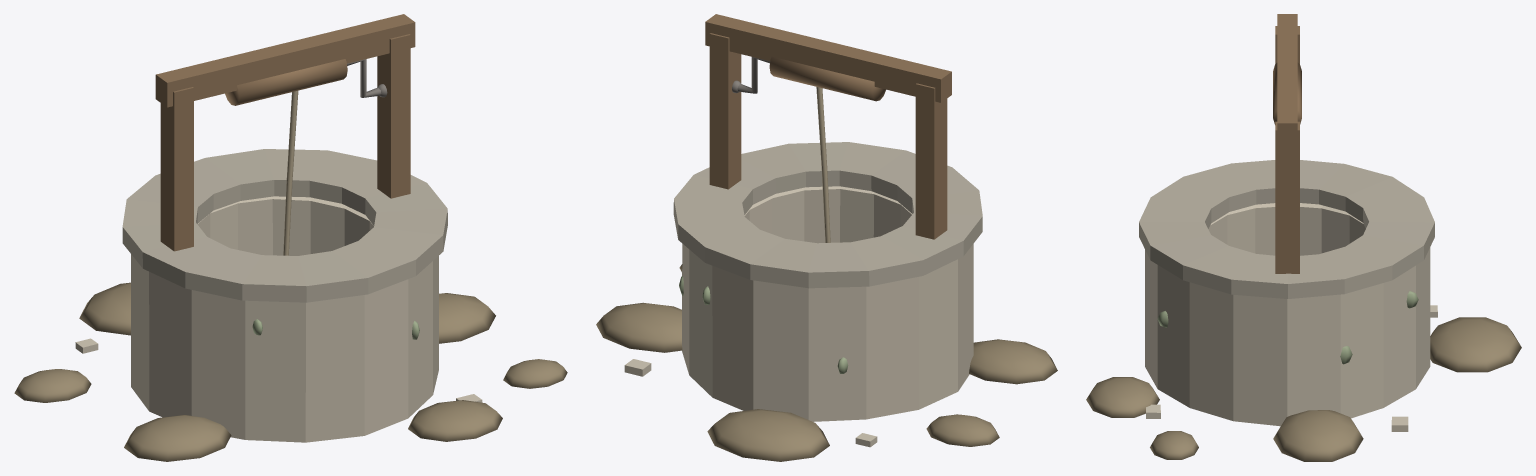
The model's file is cloister_well.glb.
3 renders of one model, left to right at view 1: azimuth 30°, elevation 25°; view 2: azimuth 150°, elevation 25°; view 3: azimuth 270°, elevation 25°, orthographic. The views are drawn at different scales.
Parts seen in each view (by area): view 1: Well_Stone, Well_Gear, Well_Mud; view 2: Well_Stone, Well_Gear, Well_Mud; view 3: Well_Stone, Well_Mud, Well_Gear.
Part boxes in pixels (box(x1,y1,x2,y2)): Well_Stone: box(122, 149, 447, 442); Well_Gear: box(155, 14, 415, 255); Well_Mud: box(14, 282, 567, 461); Well_Stone: box(673, 142, 982, 421); Well_Gear: box(705, 14, 951, 242); Well_Mud: box(596, 264, 1057, 461); Well_Stone: box(1139, 160, 1434, 426); Well_Mud: box(1086, 305, 1521, 461); Well_Gear: box(1273, 14, 1301, 273).
Bounding box in the file's own units: 2.24 × 1.6 × 2.12.
